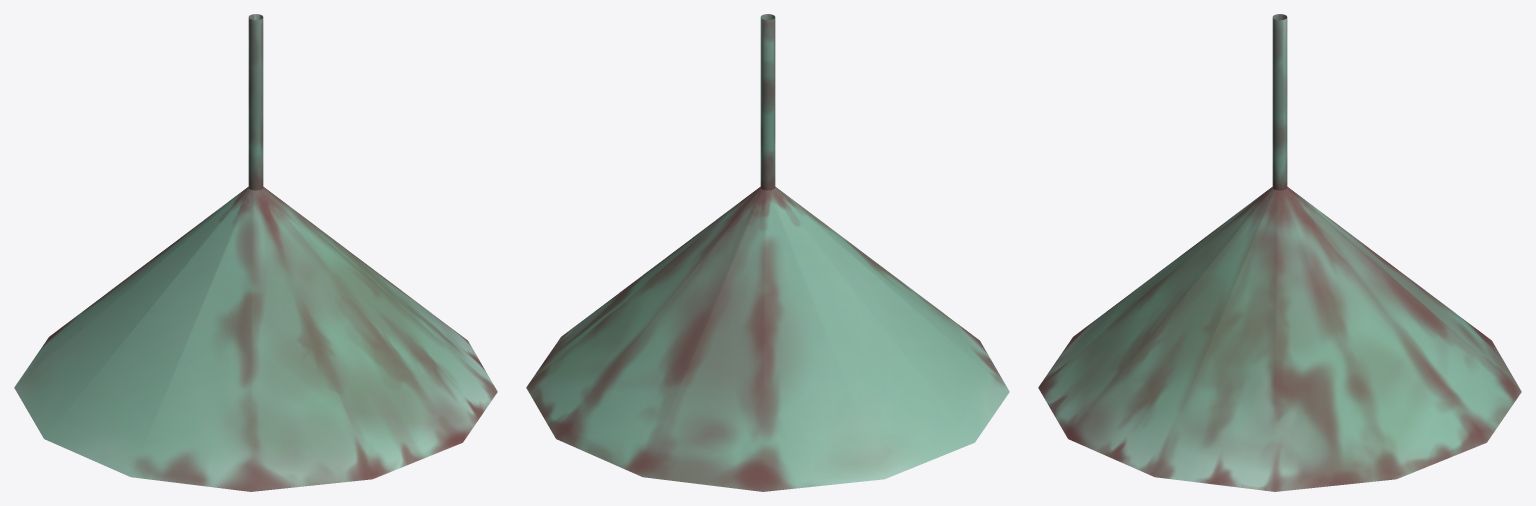
Rendered from DR_LightBulb 1.fbx.
3 renders of one model, left to right at view 1: azimuth 30°, elevation 25°; view 2: azimuth 150°, elevation 25°; view 3: azimuth 270°, elevation 25°, orthographic.
Visible parts, largest first — view 1: Cylinder; view 2: Cylinder; view 3: Cylinder.
Part boxes in pixels (x1,y1,x2,y2): Cylinder: (14, 14, 497, 491); Cylinder: (526, 14, 1009, 491); Cylinder: (1038, 14, 1521, 491).
Size of the model in its own units: 54.98 by 46.73 by 54.98.
